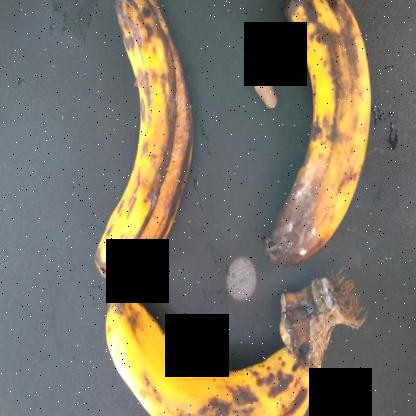overripe: (85, 294, 322, 415)
rotten: (76, 1, 208, 294), (252, 1, 391, 265)
